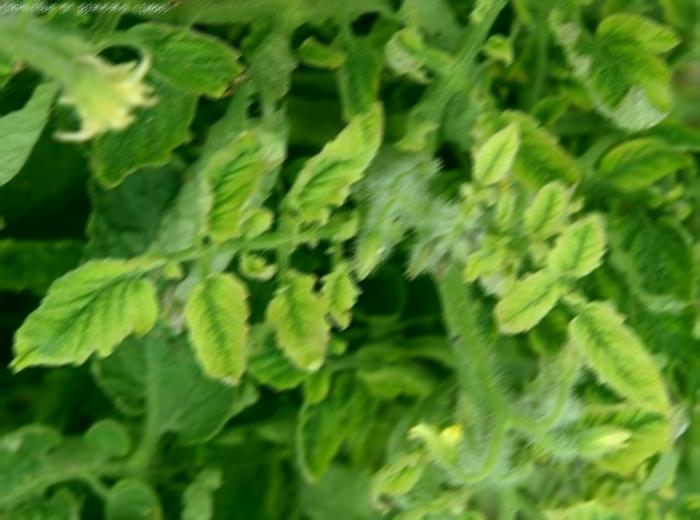Tomato leaf yellow virus: (10, 246, 168, 379), (569, 275, 676, 416), (284, 88, 390, 226), (193, 107, 277, 249), (192, 268, 249, 392), (553, 176, 619, 282), (489, 258, 564, 350), (271, 280, 322, 390), (465, 108, 530, 183)
